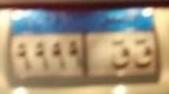9: (16, 43, 31, 72), (35, 40, 49, 70), (68, 40, 82, 68), (52, 41, 65, 69)
qaaf: (133, 38, 153, 69), (112, 39, 131, 69)
